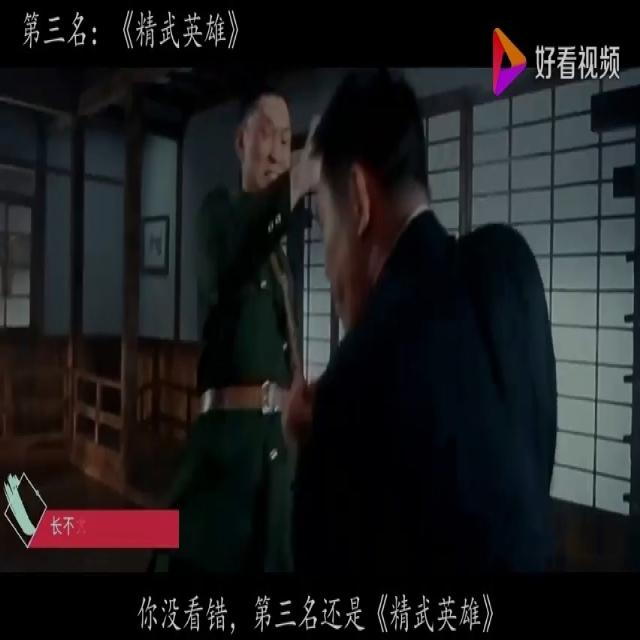fight: (149, 74, 559, 569)
